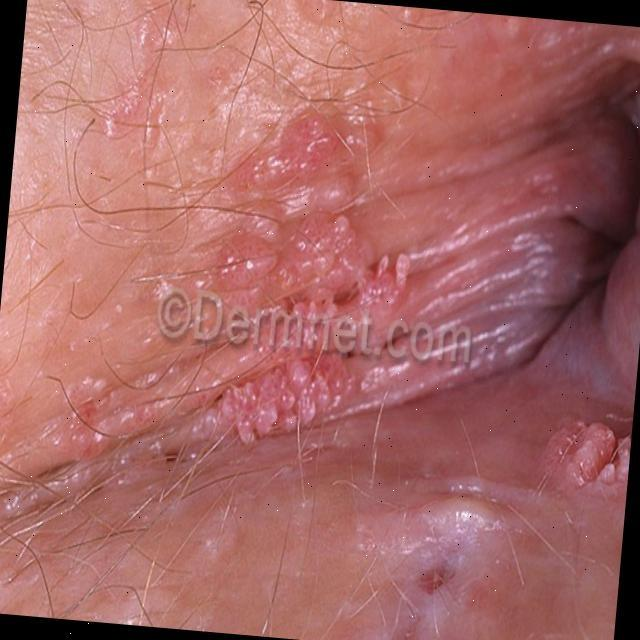Shingles: (50, 103, 411, 465), (563, 423, 640, 486)
